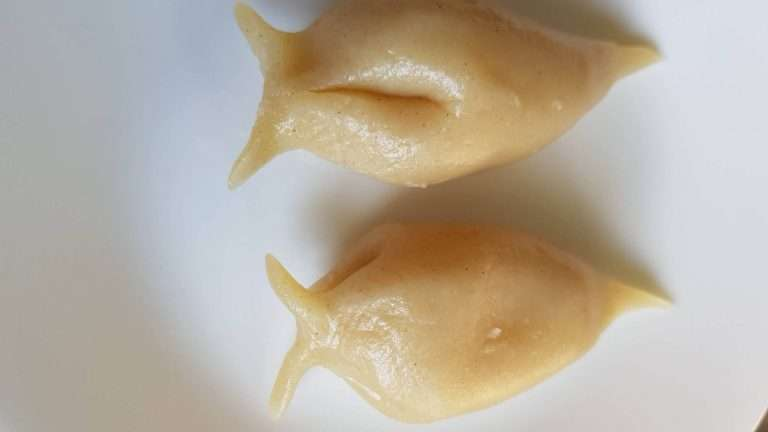yomari: (245, 217, 684, 426), (205, 3, 682, 194)
